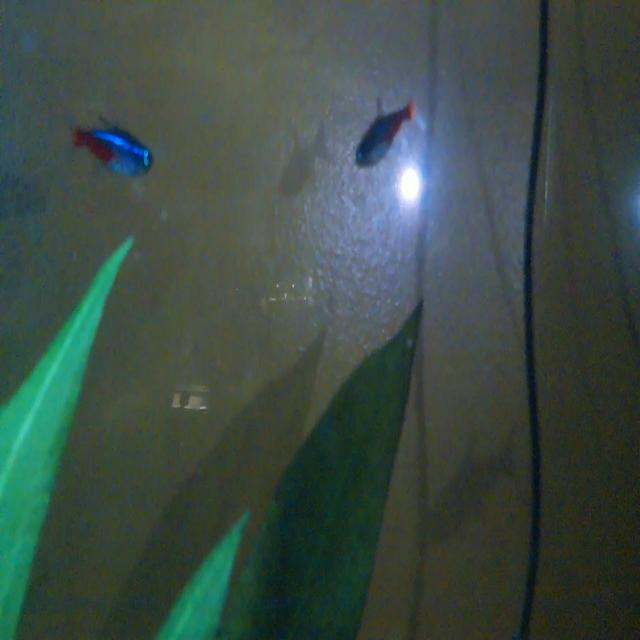fish: (64, 100, 168, 189), (341, 82, 429, 183)
